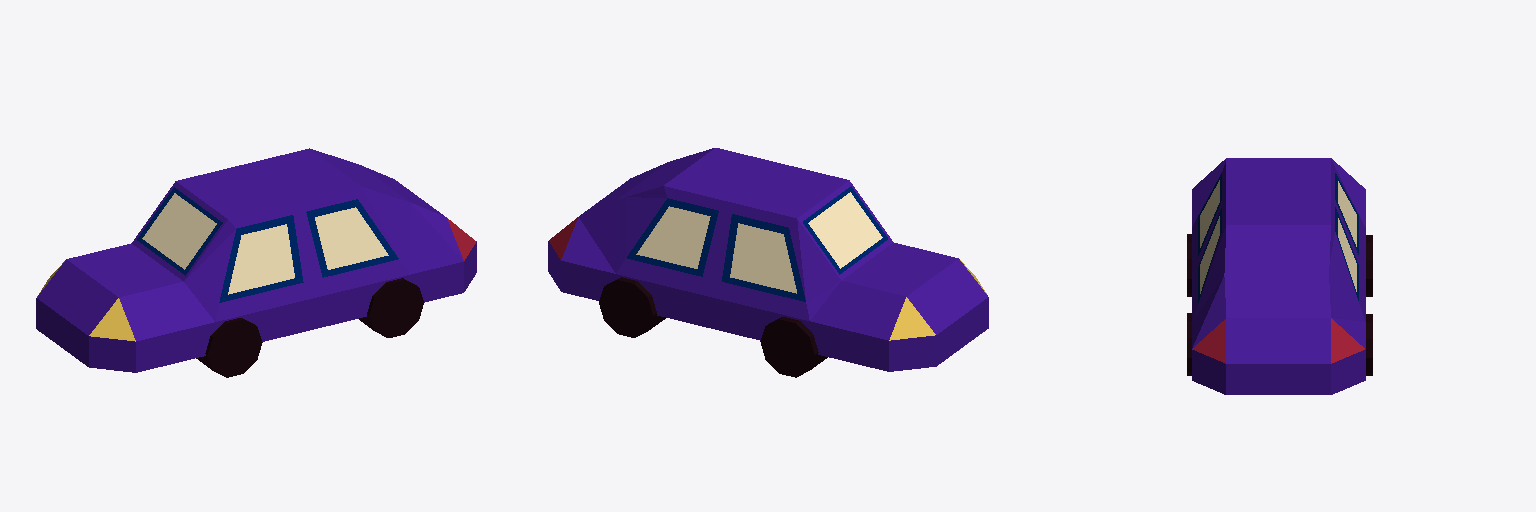
3 renders of one model, left to right at view 1: azimuth 30°, elevation 25°; view 2: azimuth 150°, elevation 25°; view 3: azimuth 270°, elevation 25°, orthographic.
Visible parts, largest first — view 1: pCylinder3; view 2: pCylinder3; view 3: pCylinder3.
Part boxes in pixels (left/top/right/bottom): pCylinder3: left=36, top=148, right=476, bottom=377; pCylinder3: left=548, top=148, right=988, bottom=377; pCylinder3: left=1187, top=158, right=1372, bottom=394.
Bounding box in the file's own units: 225 × 76.97 × 93.56.
Materials: 1 (1 with a texture image).